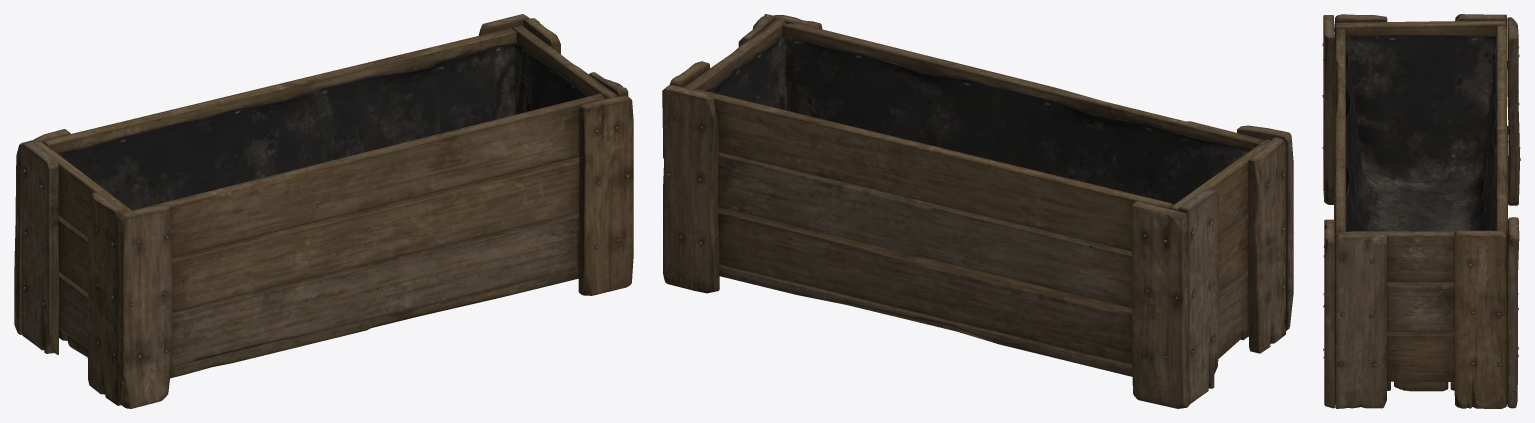
Rendered from planter_box_02.glb.
The picture shows the model from 3 angles, left to right: view 1: azimuth 30°, elevation 25°; view 2: azimuth 150°, elevation 25°; view 3: azimuth 270°, elevation 25°; orthographic projection. The views are drawn at different scales.
Visible parts, largest first — view 1: planter_box_02; view 2: planter_box_02; view 3: planter_box_02.
Part boxes in pixels (box(x1,y1,x2,y2)): planter_box_02: box(14, 14, 633, 408); planter_box_02: box(662, 14, 1293, 408); planter_box_02: box(1322, 14, 1520, 408).
Bounding box in the file's own units: 1.25 × 0.4534 × 0.4672.
1 material, 1 textured.
